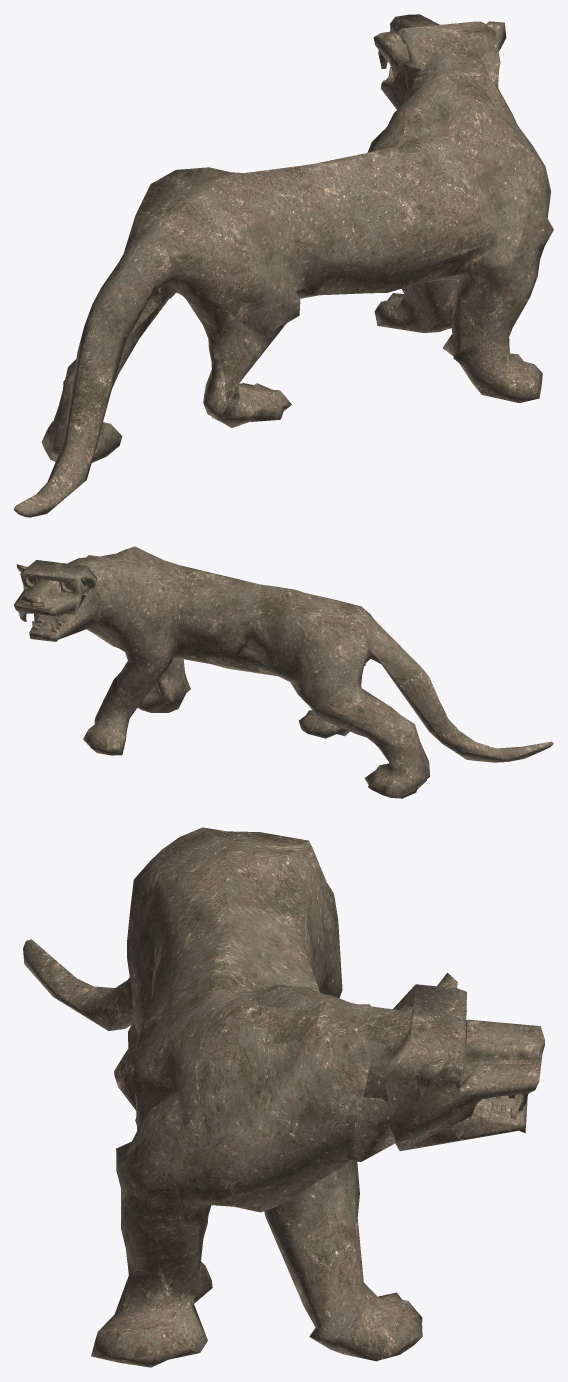
File: mdl_franch_Meta_Puma.gltf
The picture shows the model from 3 angles, top to bottom: view 1: azimuth 30°, elevation 25°; view 2: azimuth 150°, elevation 25°; view 3: azimuth 270°, elevation 25°; orthographic projection. The views are drawn at different scales.
Visible parts, largest first — view 1: testpuma; view 2: testpuma; view 3: testpuma.
Boxes of the visible parts, x1,y1,x2,y2 form: testpuma: (14,14,553,517); testpuma: (14,546,553,798); testpuma: (23,827,544,1367).
Size of the model in its own units: 3.08 by 1.28 by 1.6.
Materials: 1 (1 with a texture image).
